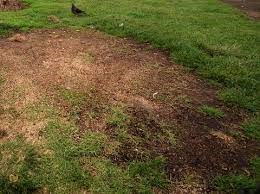dirt: (2, 26, 144, 118), (149, 124, 255, 173), (145, 72, 216, 120)
grass: (0, 121, 146, 190), (146, 4, 257, 57), (214, 59, 258, 105), (88, 2, 145, 24)
